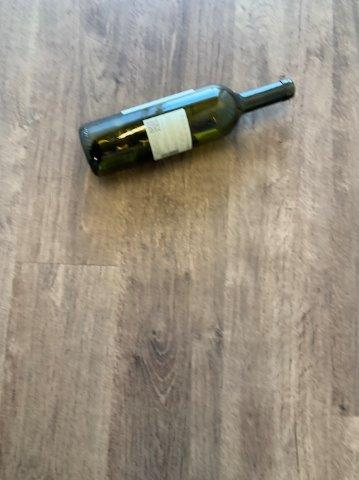botolkaca: (79, 78, 296, 178)
